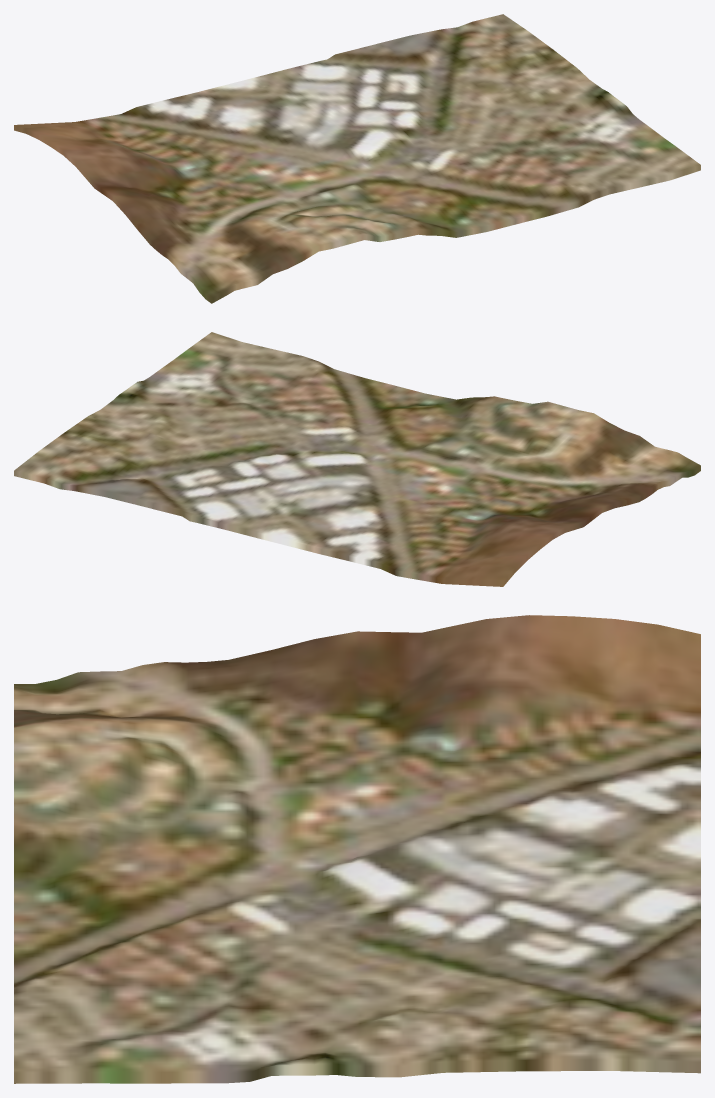
Rendered from terrain_r5_c6_lod2.glb.
3 views of the same model, one above another, from view 1: azimuth 30°, elevation 25°; view 2: azimuth 150°, elevation 25°; view 3: azimuth 270°, elevation 25° (orthographic). The views are drawn at different scales.
Parts seen in each view (by area): view 1: terrain_r5_c6_lod2; view 2: terrain_r5_c6_lod2; view 3: terrain_r5_c6_lod2.
Part boxes in pixels (x1,y1,x2,y2): terrain_r5_c6_lod2: (14,14,700,303); terrain_r5_c6_lod2: (14,332,700,586); terrain_r5_c6_lod2: (14,615,700,1083).
Size of the model in its own units: 1125 by 99.16 by 787.
1 material, 1 textured.
